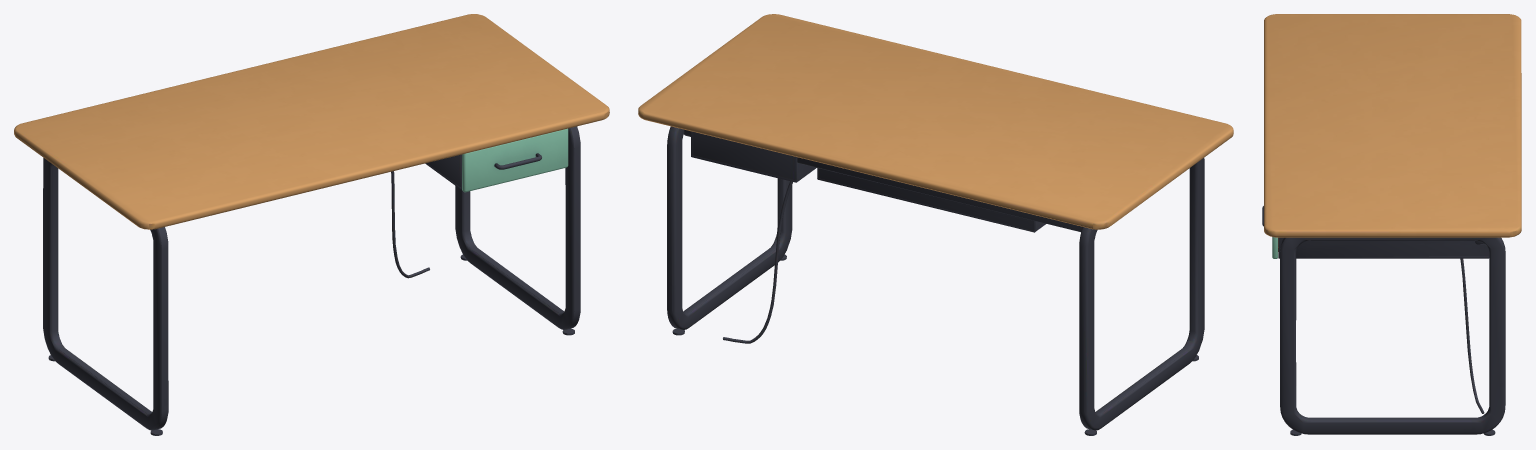
File: office-desk-leve.glb
The picture shows the model from 3 angles, left to right: view 1: azimuth 30°, elevation 25°; view 2: azimuth 150°, elevation 25°; view 3: azimuth 270°, elevation 25°; orthographic projection. The views are drawn at different scales.
Parts seen in each view (by area): view 1: office-desk_body, office-desk_drawer; view 2: office-desk_body; view 3: office-desk_body.
Part boxes in pixels (x1,y1,x2,y2): office-desk_body: (14, 14, 609, 435); office-desk_drawer: (462, 128, 568, 192); office-desk_body: (638, 14, 1233, 435); office-desk_body: (1264, 14, 1521, 435).
Size of the model in its own units: 1.6 by 0.74 by 0.8038.
2 materials, 2 textured.
